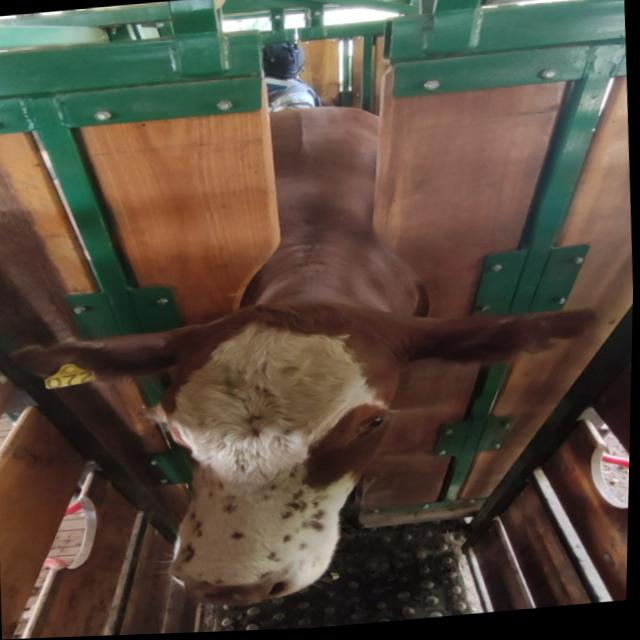cowFace: (150, 299, 413, 612)
